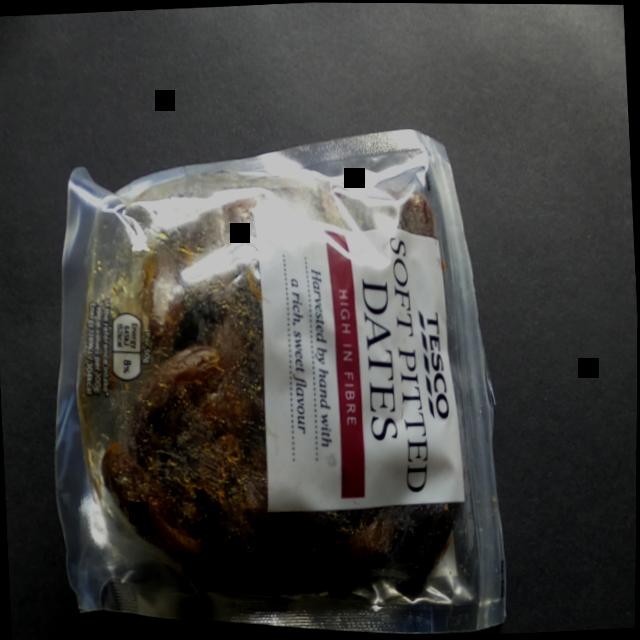Medjooldates: (6, 102, 543, 640)
